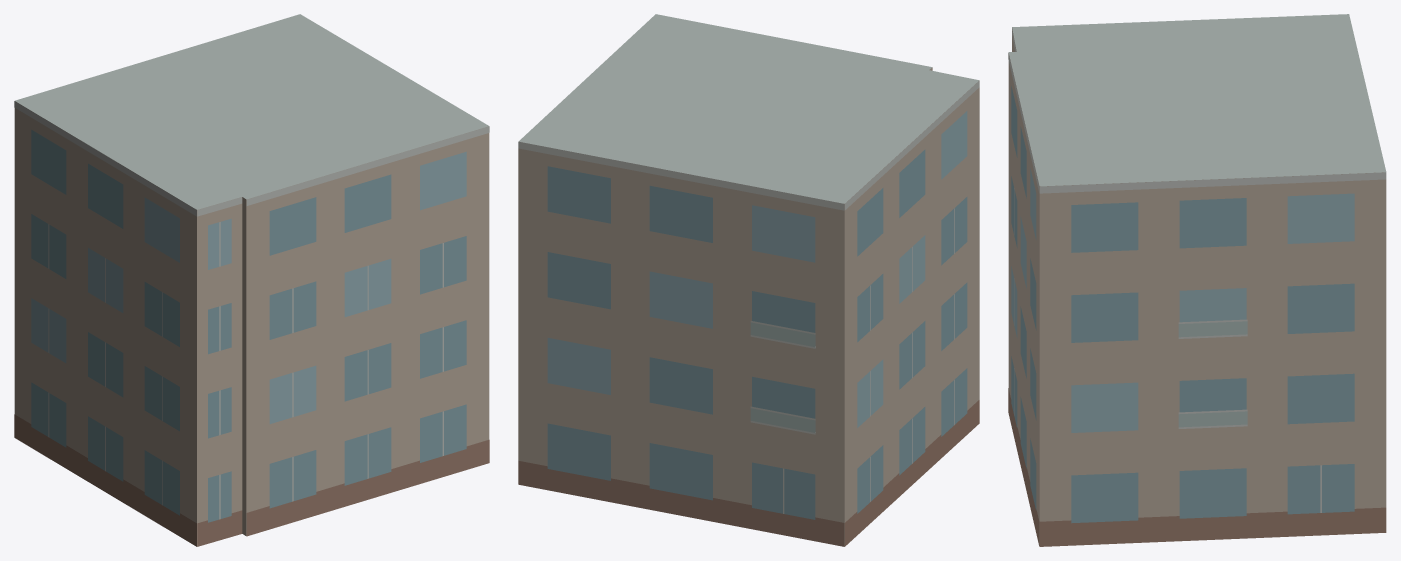
File: survey-upis-32661196.glb
3 renders of one model, left to right at view 1: azimuth 30°, elevation 25°; view 2: azimuth 150°, elevation 25°; view 3: azimuth 270°, elevation 25°, orthographic. The views are drawn at different scales.
Parts seen in each view (by area): view 1: survey-upis-32661196.tmp; view 2: survey-upis-32661196.tmp; view 3: survey-upis-32661196.tmp.
Boxes of the visible parts, x1,y1,x2,y2 form: survey-upis-32661196.tmp: (14, 14, 489, 546); survey-upis-32661196.tmp: (518, 14, 979, 546); survey-upis-32661196.tmp: (1008, 14, 1386, 546).
Bounding box in the file's own units: 12.52 × 12.2 × 11.6.
